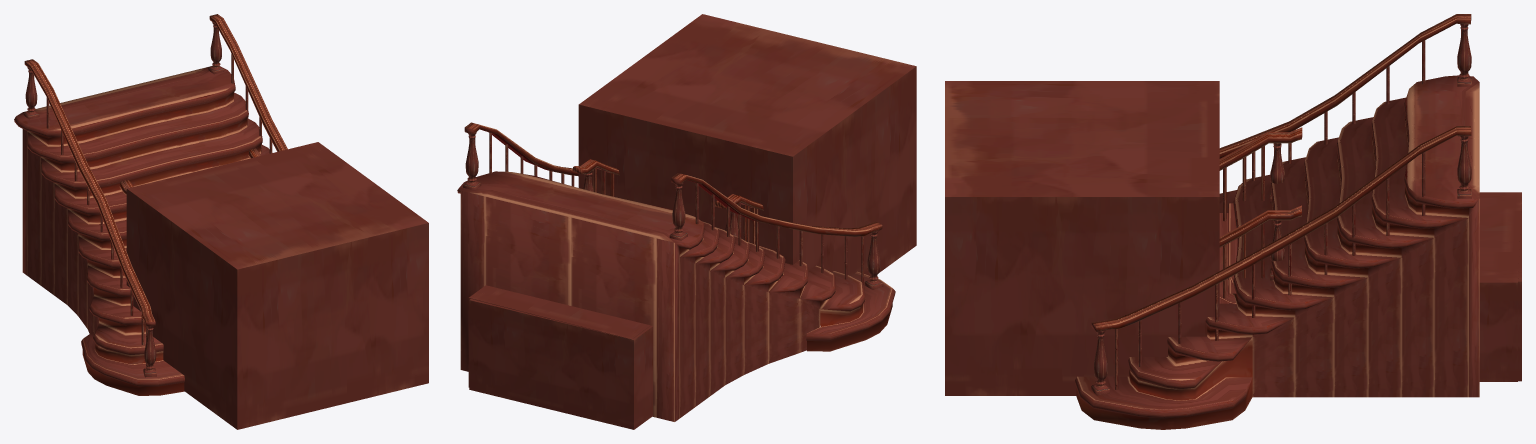
Rendered from MKL_Stairs.fbx.
The picture shows the model from 3 angles, left to right: view 1: azimuth 30°, elevation 25°; view 2: azimuth 150°, elevation 25°; view 3: azimuth 270°, elevation 25°; orthographic projection. The views are drawn at different scales.
Parts seen in each view (by area): view 1: MKL_StairsBlockRoundBig, MKL_StairsRoundBigger; view 2: MKL_StairsBlockRoundBig, MKL_StairsRoundBigger, MKL_StairsBlockRight, MKL_StairsBlockLeft, MKL_StairsRound, MKL_StairsRoundLeft; view 3: MKL_StairsRoundBigger, MKL_StairsBlockRoundBig, MKL_StairsBlockLeft, MKL_StairsRoundRight, MKL_StairsRound, MKL_StairsRoundLeft, MKL_StairsBlockRight.
Part boxes in pixels (bbox=[...]): MKL_StairsBlockRoundBig: bbox=[126, 142, 428, 429]; MKL_StairsRoundBigger: bbox=[14, 14, 287, 395]; MKL_StairsBlockRoundBig: bbox=[578, 14, 916, 276]; MKL_StairsRoundBigger: bbox=[457, 122, 895, 421]; MKL_StairsBlockRight: bbox=[469, 299, 652, 429]; MKL_StairsBlockLeft: bbox=[468, 285, 650, 387]; MKL_StairsRound: bbox=[573, 159, 755, 244]; MKL_StairsRoundLeft: bbox=[717, 195, 763, 243]; MKL_StairsRoundBigger: bbox=[1075, 14, 1479, 429]; MKL_StairsBlockRoundBig: bbox=[945, 81, 1219, 395]; MKL_StairsBlockLeft: bbox=[1479, 193, 1521, 381]; MKL_StairsRoundRight: bbox=[1219, 203, 1301, 304]; MKL_StairsRound: bbox=[1219, 129, 1301, 280]; MKL_StairsRoundLeft: bbox=[1219, 127, 1302, 303]; MKL_StairsBlockRight: bbox=[1479, 192, 1521, 381].
Bounding box in the file's own units: 4 × 2.68 × 5.25.
